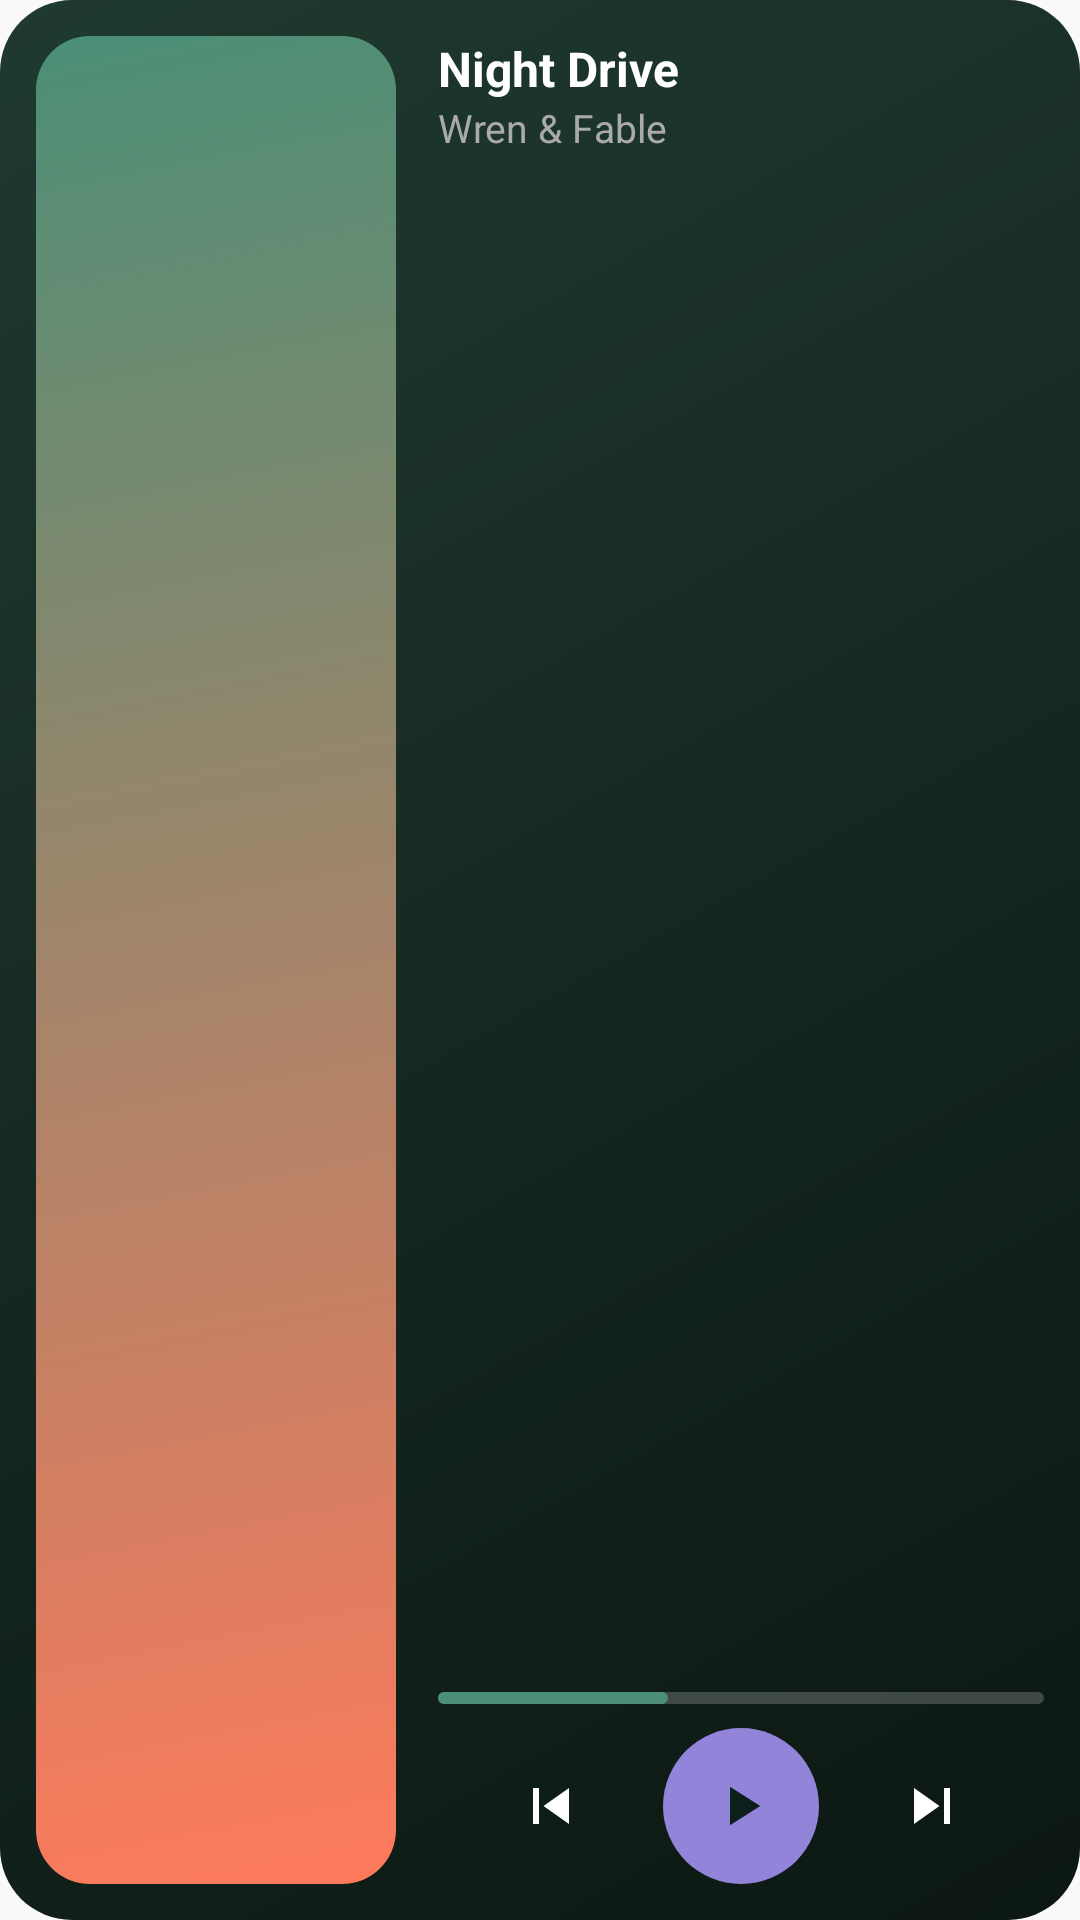

Named icons in this screenshot (1080w x 1920h) and their bounding boxes, [x1=x1, y1=y1, x2=x2, y2=y2]:
widget play glyph: [x1=730, y1=1787, x2=760, y2=1825]
widget skip next: [x1=914, y1=1788, x2=950, y2=1824]
widget skip previous: [x1=533, y1=1788, x2=569, y2=1824]
